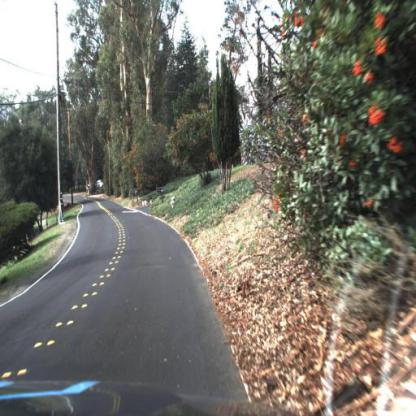car: (97, 175, 110, 193)
